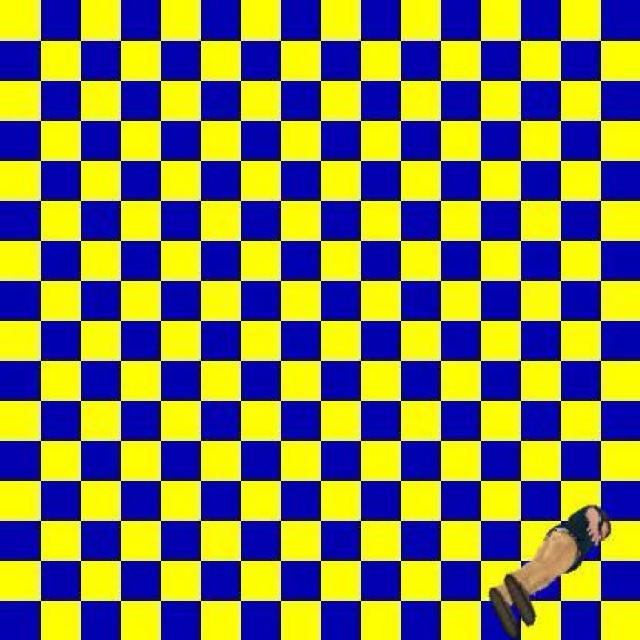Person: (487, 502, 621, 640)
